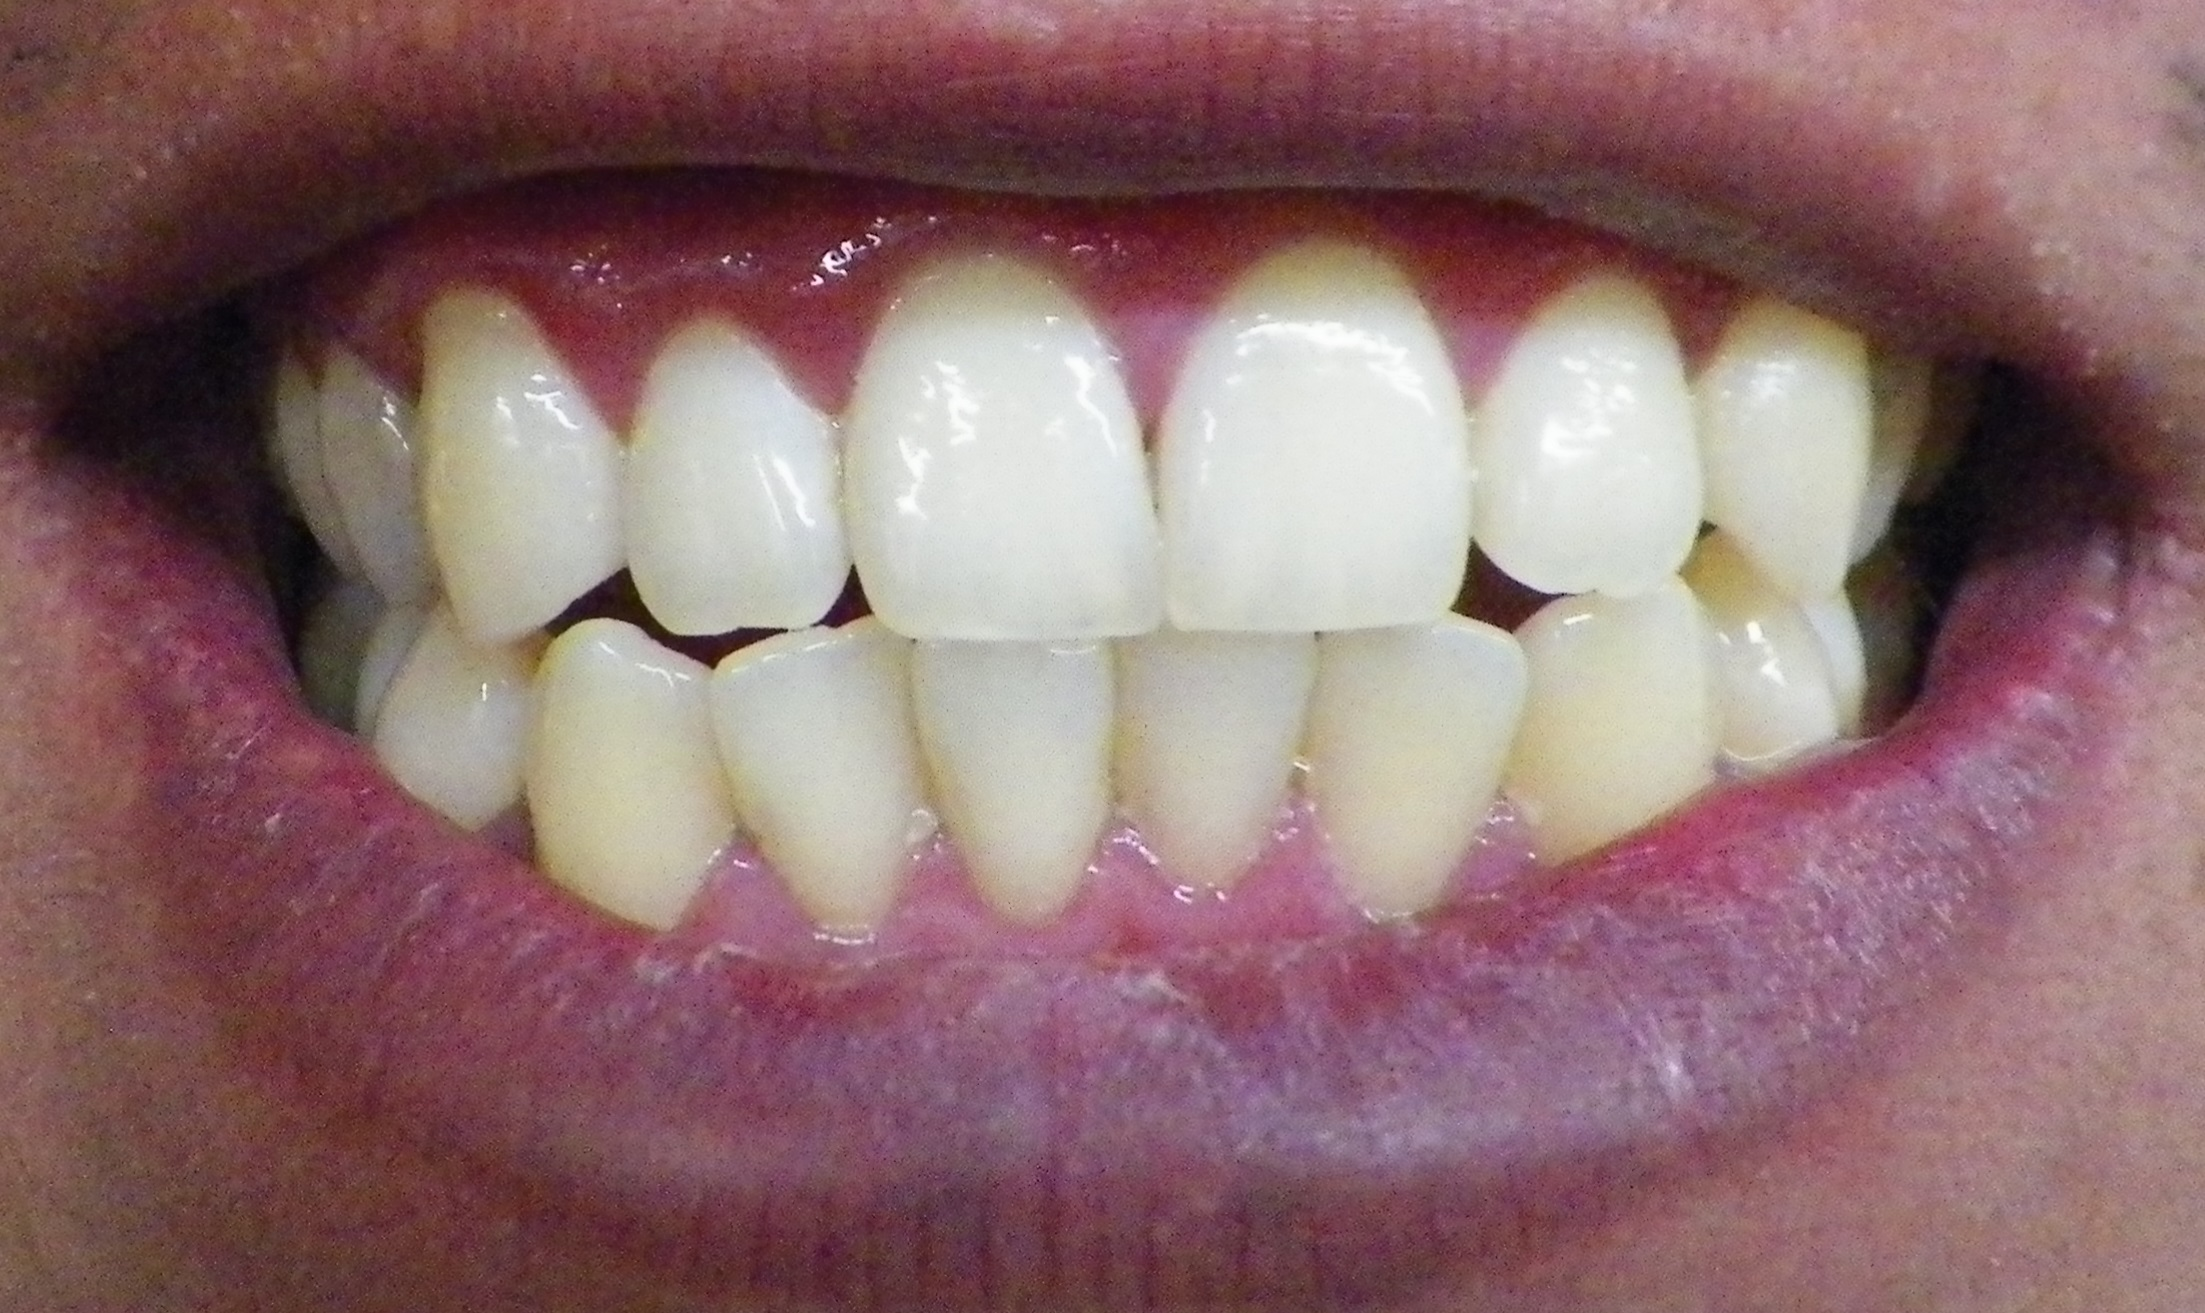boca: (252, 224, 2019, 936)
